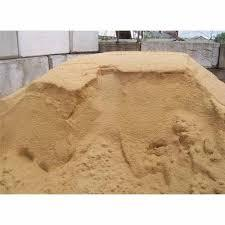sand: (86, 67, 114, 89), (21, 164, 49, 186), (37, 112, 63, 132), (139, 89, 165, 109), (79, 170, 99, 187)
